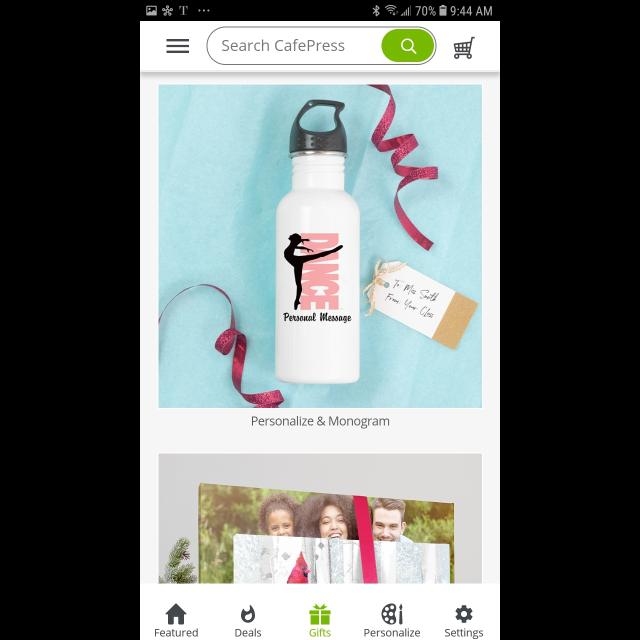icon: (382, 29, 434, 62), (166, 604, 188, 624), (454, 37, 474, 59), (310, 604, 330, 624), (167, 39, 189, 53), (456, 605, 472, 623)
image: (158, 85, 482, 408), (160, 453, 482, 583), (381, 603, 403, 625), (241, 605, 255, 623)
input: (207, 27, 437, 65)
text: (252, 416, 390, 428), (223, 39, 345, 51), (364, 628, 420, 636), (445, 629, 483, 639), (156, 629, 198, 637), (235, 628, 261, 636), (310, 628, 330, 636)
uppertaskbar: (140, 1, 500, 22)
